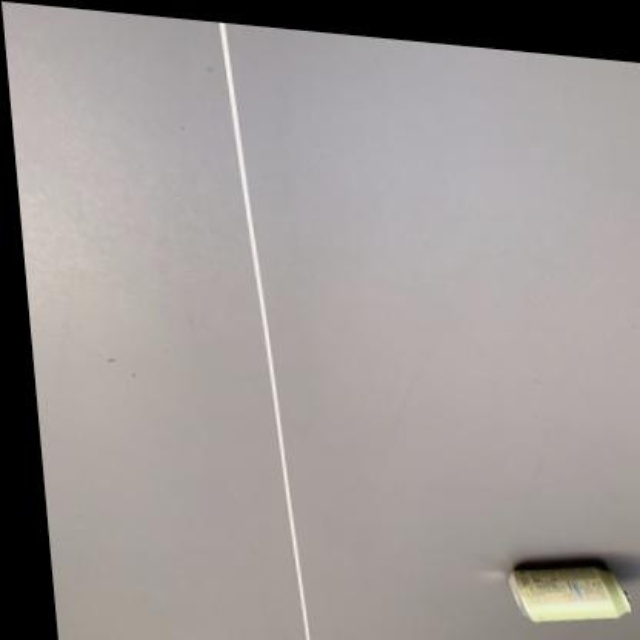trash: (509, 557, 629, 622)
